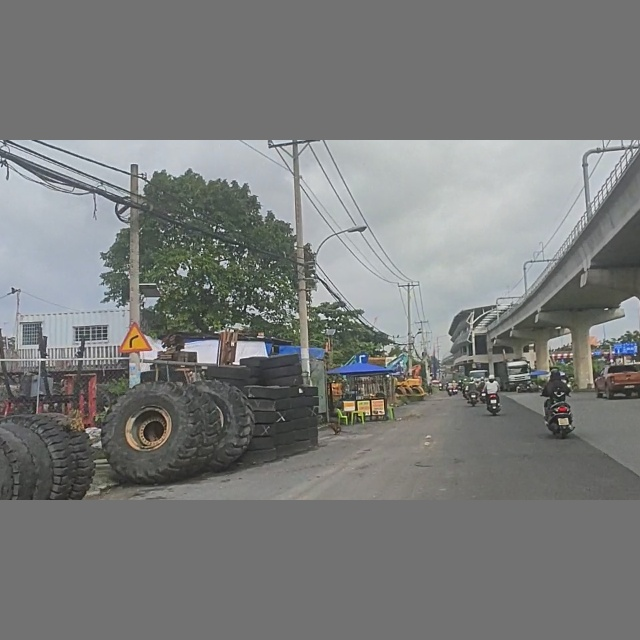R.301e: (355, 351, 369, 365)
W.201a: (117, 321, 151, 355)
